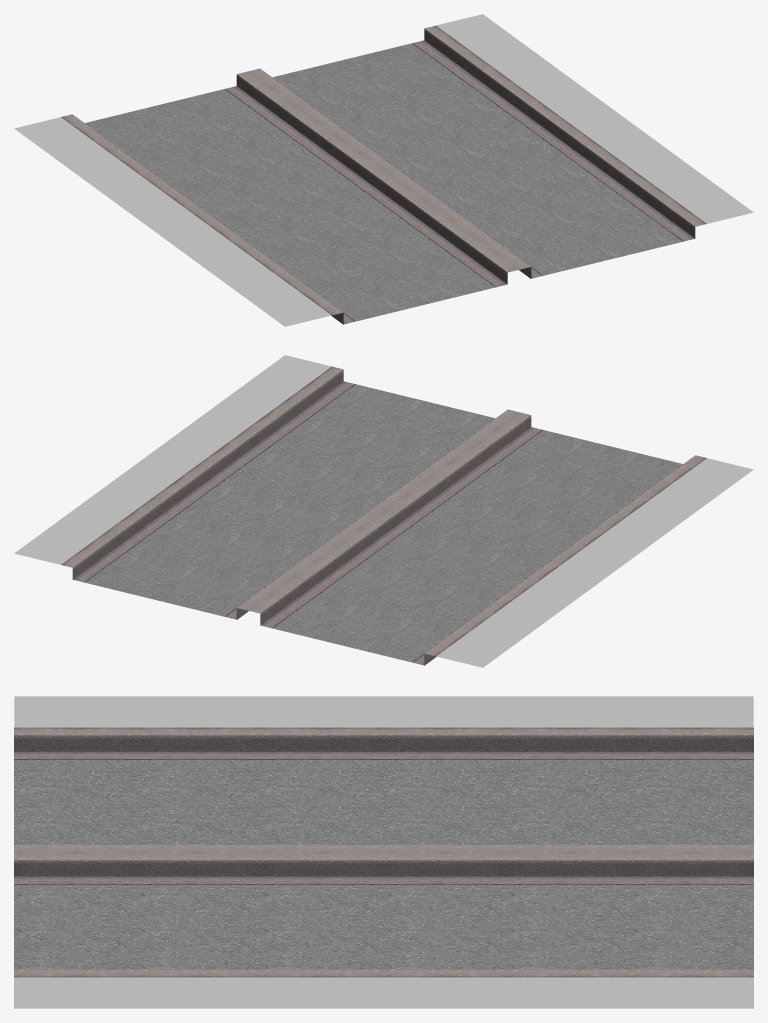
Rendered from roada2.dae.
3 renders of one model, top to bottom at view 1: azimuth 30°, elevation 25°; view 2: azimuth 150°, elevation 25°; view 3: azimuth 270°, elevation 25°, orthographic. The views are drawn at different scales.
Parts seen in each view (by area): view 1: S_Object_001_4, S_Object_001_7, S_Object_001, S_Object_001_2, S_Object_001_6, S_Object_001_1, S_Object_001_3, S_Object_001_5; view 2: S_Object_001_4, S_Object_001_7, S_Object_001, S_Object_001_2, S_Object_001_6, S_Object_001_1, S_Object_001_3, S_Object_001_5; view 3: S_Object_001_4, S_Object_001_7, S_Object_001, S_Object_001_2, S_Object_001_6, S_Object_001_1, S_Object_001_5.
Boxes of the visible parts, left/top/right/bottom form: S_Object_001_4: left=87, top=44, right=680, bottom=320; S_Object_001_7: left=14, top=14, right=753, bottom=326; S_Object_001: left=236, top=28, right=695, bottom=324; S_Object_001_2: left=225, top=40, right=694, bottom=324; S_Object_001_6: left=61, top=25, right=706, bottom=315; S_Object_001_1: left=237, top=68, right=530, bottom=272; S_Object_001_3: left=223, top=43, right=683, bottom=287; S_Object_001_5: left=85, top=77, right=544, bottom=321; S_Object_001_4: left=87, top=385, right=680, bottom=661; S_Object_001_7: left=14, top=355, right=753, bottom=667; S_Object_001: left=72, top=369, right=531, bottom=665; S_Object_001_2: left=73, top=381, right=542, bottom=665; S_Object_001_6: left=61, top=366, right=706, bottom=656; S_Object_001_1: left=237, top=409, right=530, bottom=613; S_Object_001_3: left=84, top=384, right=544, bottom=628; S_Object_001_5: left=223, top=418, right=682, bottom=662; S_Object_001_4: left=14, top=761, right=753, bottom=969; S_Object_001_7: left=14, top=696, right=753, bottom=1008; S_Object_001: left=14, top=735, right=753, bottom=876; S_Object_001_2: left=14, top=751, right=753, bottom=884; S_Object_001_6: left=14, top=727, right=753, bottom=977; S_Object_001_1: left=14, top=844, right=753, bottom=860; S_Object_001_5: left=14, top=759, right=753, bottom=885.
Size of the model in its own units: 2 by 0.05 by 2.
